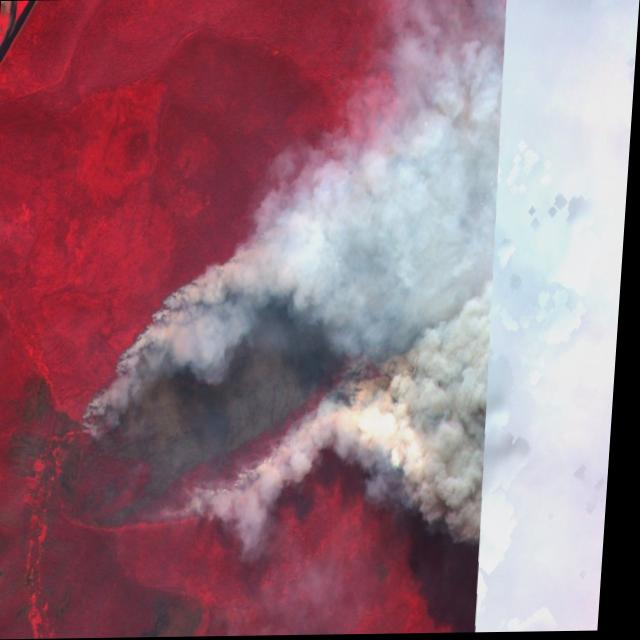fire: (60, 108, 548, 536)
